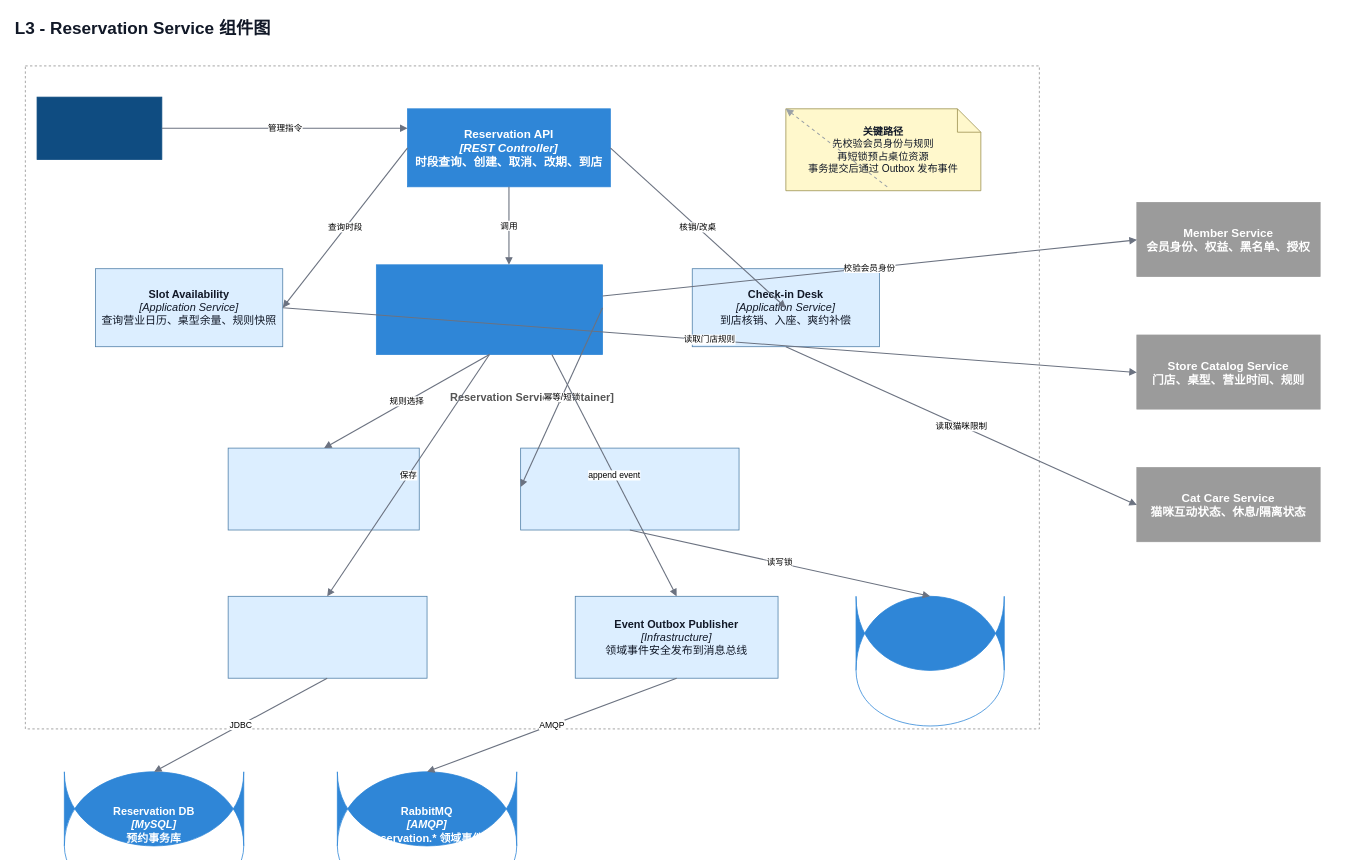
This 1368x860 diagram has some shape labels left out. The shapes that lost their labels are listed below. From the top down, each one's centre as x and y in pixels, then its label:
[99,128]: 管理员 补录审批 规则调整
[489,309]: Reservation Core [Domain Service] 校验预约规则、资源预占、状态机推进
[323,488]: Fulfillment Policy [Domain Policy] 位置分配、迟到保留、改期和离线补录规则
[629,488]: Idempotency / Concurrency Guard [Redis Adapter] 幂等键、短锁、资源预占保护
[327,637]: Reservation Repository [Repository] 预约单、核销记录、补录记录
[929,633]: Redis [Cache] 热点缓存、短时锁、幂等键
